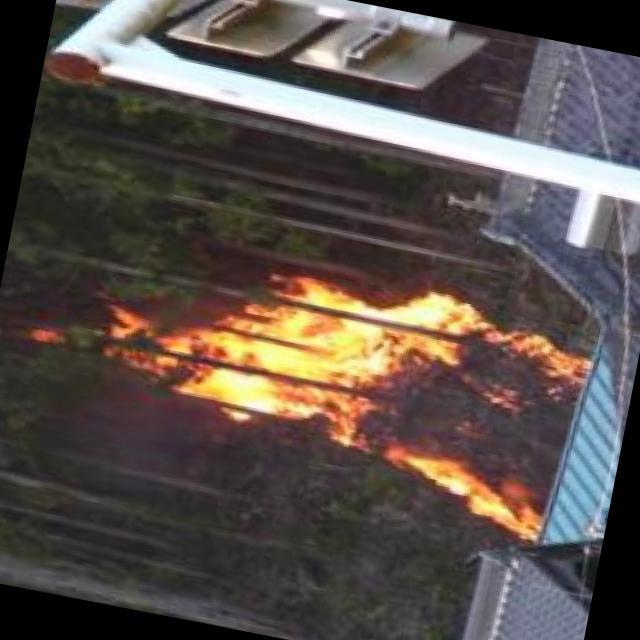Fire: (102, 235, 595, 533)
